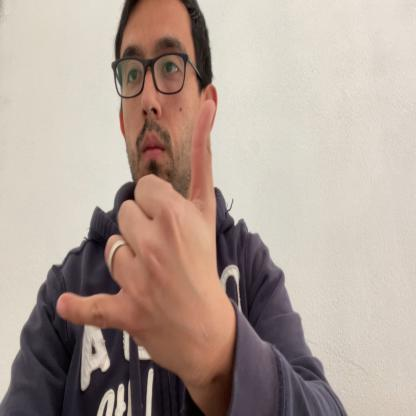Y: (56, 100, 224, 357)
